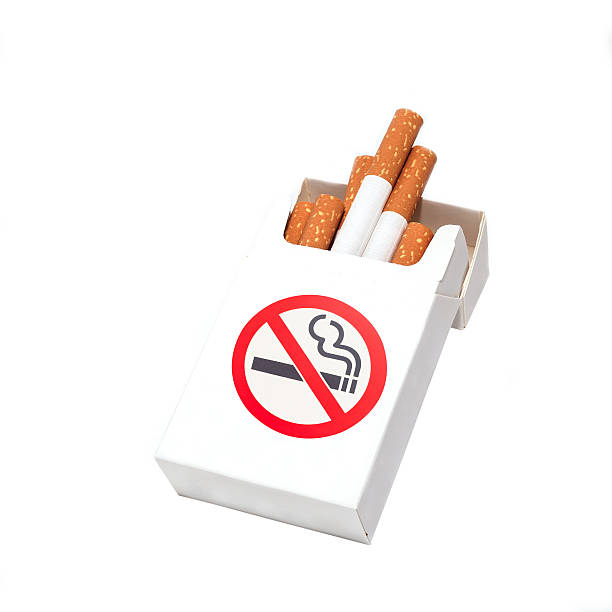cigarette: (155, 175, 495, 547), (331, 108, 428, 257), (360, 143, 439, 262), (247, 353, 362, 397), (337, 152, 378, 232), (297, 194, 346, 251), (389, 219, 434, 267), (282, 197, 314, 247)
